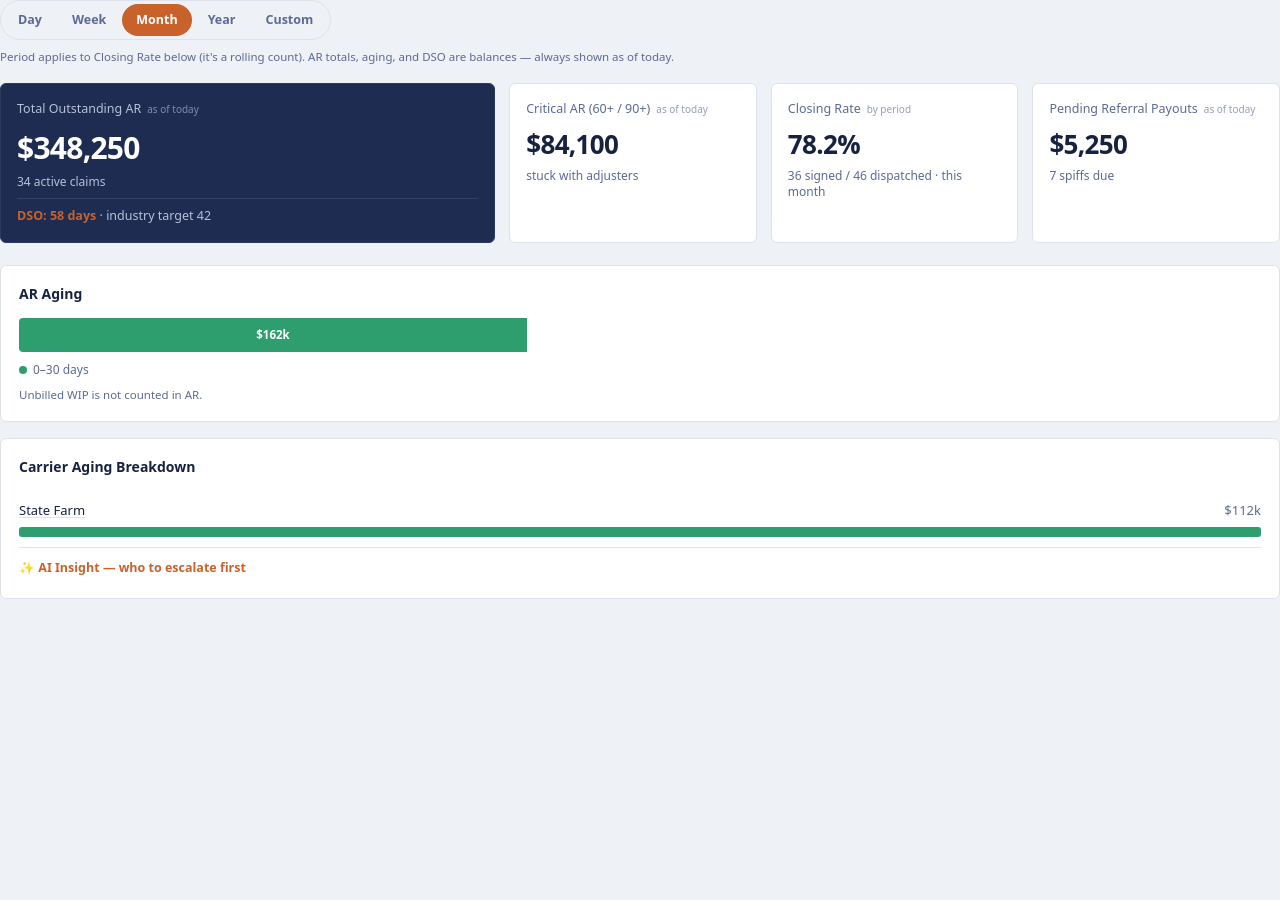
Test: ExecutiveView › copies the carrier-escalation suggestion to the clipboard via the edit modal
What coordinates should you click on to do the following:
click the button "✨ AI Insight — who to escalate first"
I would click on:
 (132, 564)
Its box is [19,548,246,580].
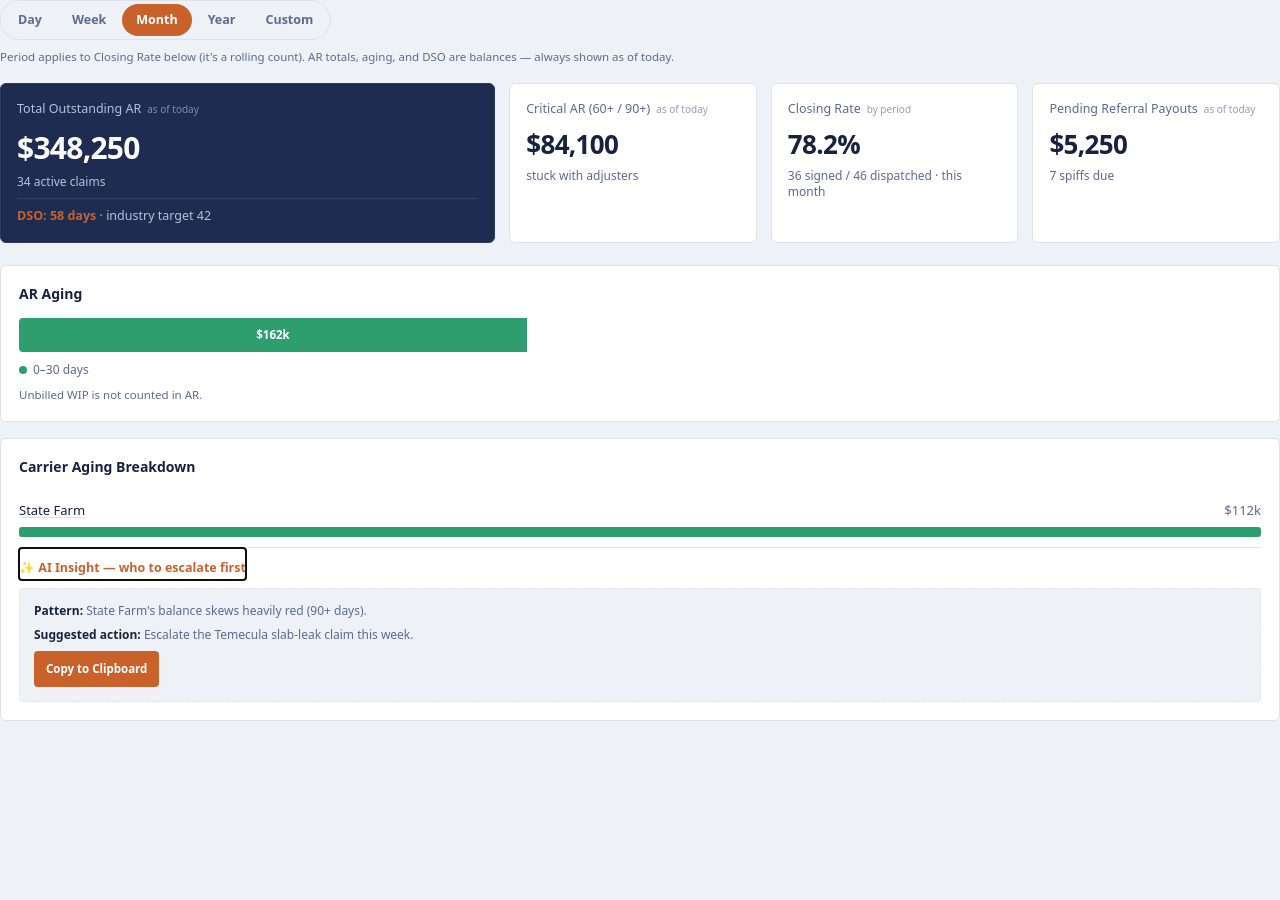
What coordinates should you click on to do the following:
click the button "Copy to Clipboard"
I would click on:
 (97, 668)
Its box is [34,650,159,686].
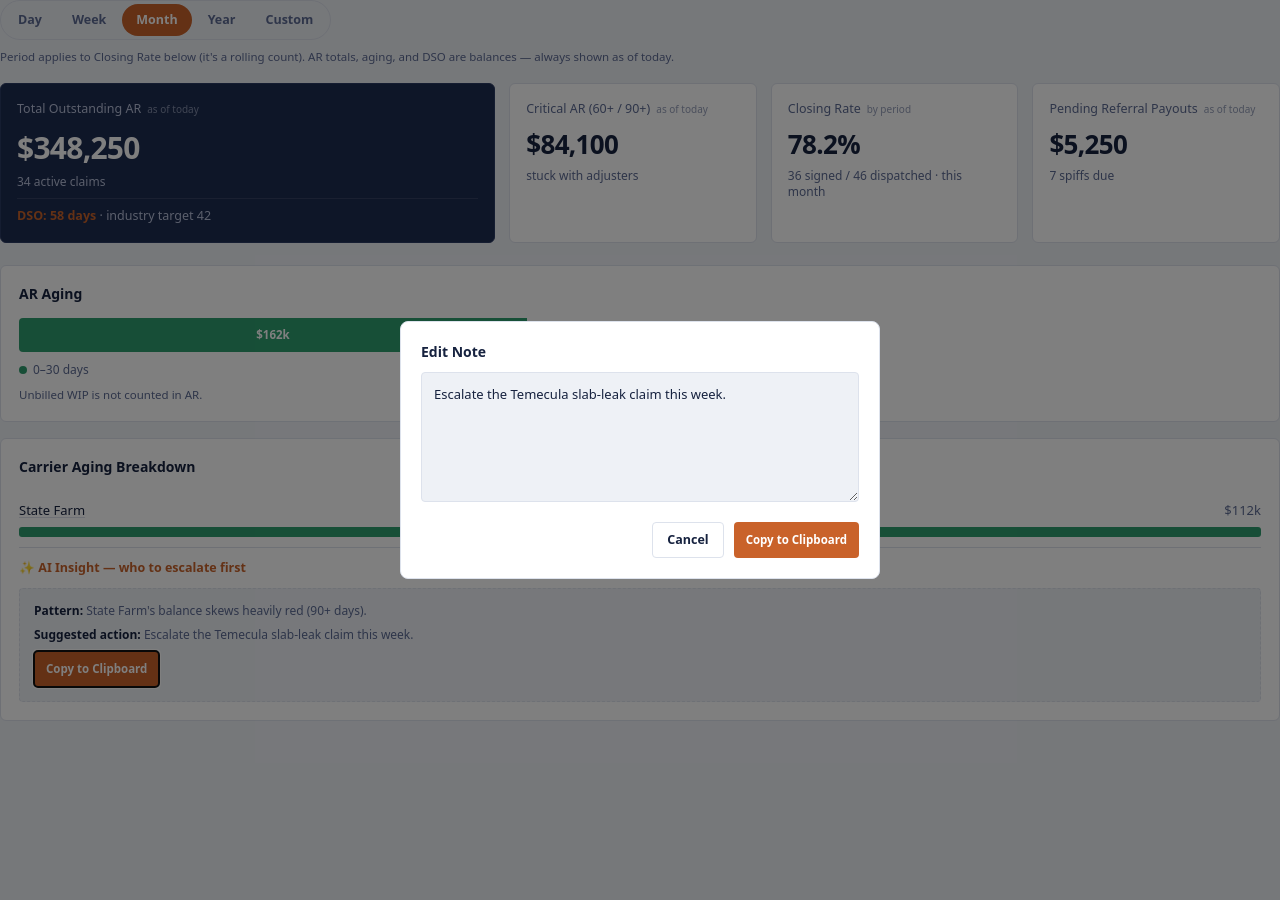
Result: the dialog "Edit Note" is shown
What coordinates should you click on to do the following:
click the button "Copy to Clipboard"
I would click on:
 (796, 540)
Its box is [734,522,859,558].
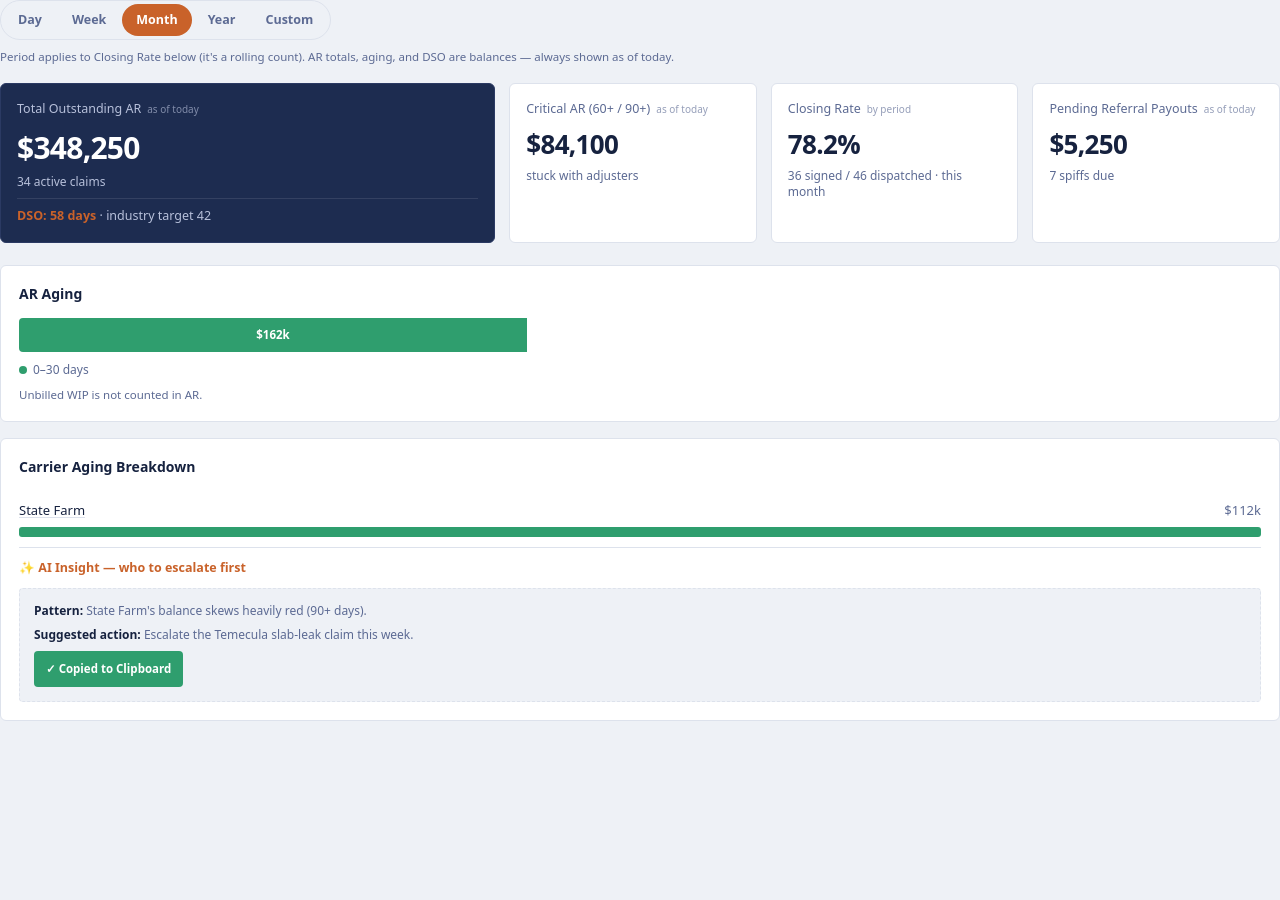
Result: the button "✓ Copied to Clipboard" is disabled at [34,650,183,686]
